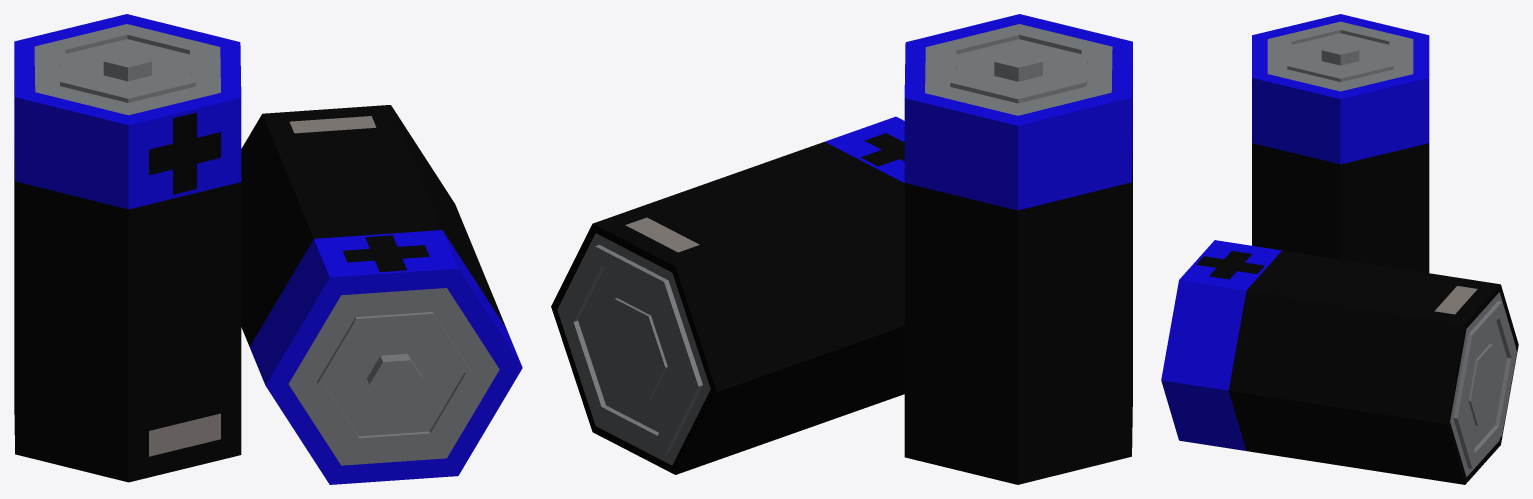
Rendered from SM_Battery_01.gltf.
3 views of the same model, side by side, from view 1: azimuth 30°, elevation 25°; view 2: azimuth 150°, elevation 25°; view 3: azimuth 270°, elevation 25° (orthographic). The views are drawn at different scales.
Visible parts, largest first — view 1: SM_Battery_01; view 2: SM_Battery_01; view 3: SM_Battery_01.
Part boxes in pixels (bbox=[...]): SM_Battery_01: bbox=[14, 14, 522, 484]; SM_Battery_01: bbox=[551, 14, 1132, 484]; SM_Battery_01: bbox=[1161, 14, 1518, 484].
Bounding box in the file's own units: 0.0756 × 0.0567 × 0.0594.
